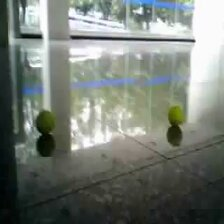tennis: (35, 110, 55, 132), (168, 105, 184, 123)
